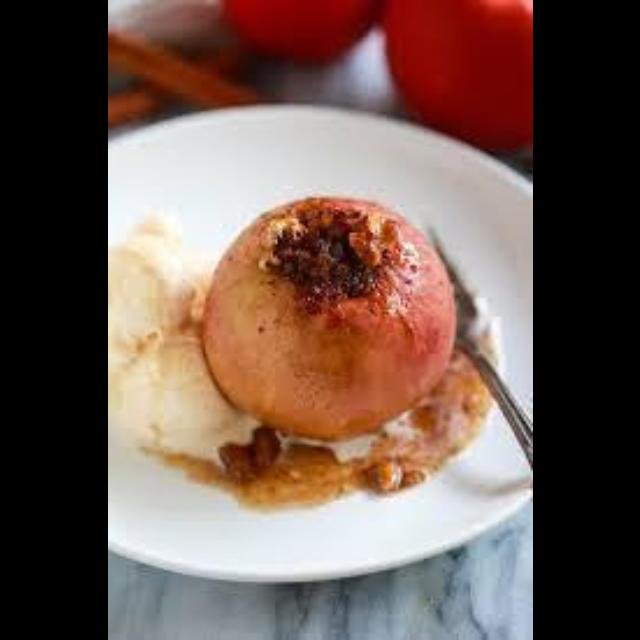apple: (202, 198, 454, 440)
